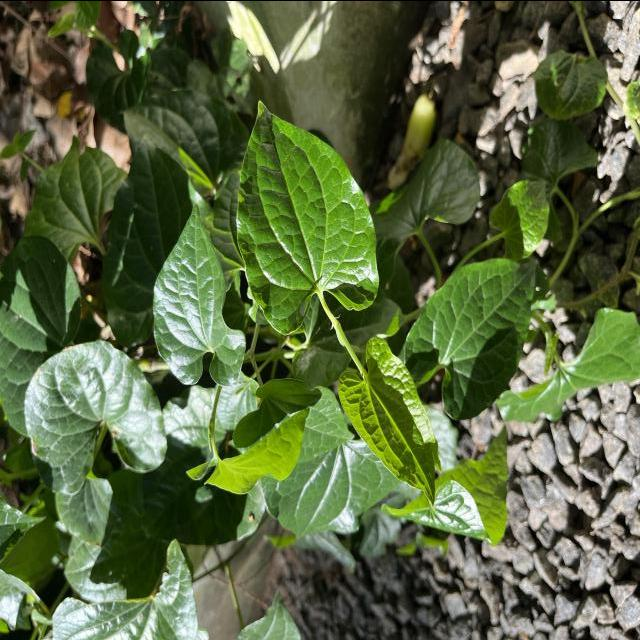Piper longum: (233, 96, 381, 337), (151, 200, 247, 388), (336, 334, 438, 508)
